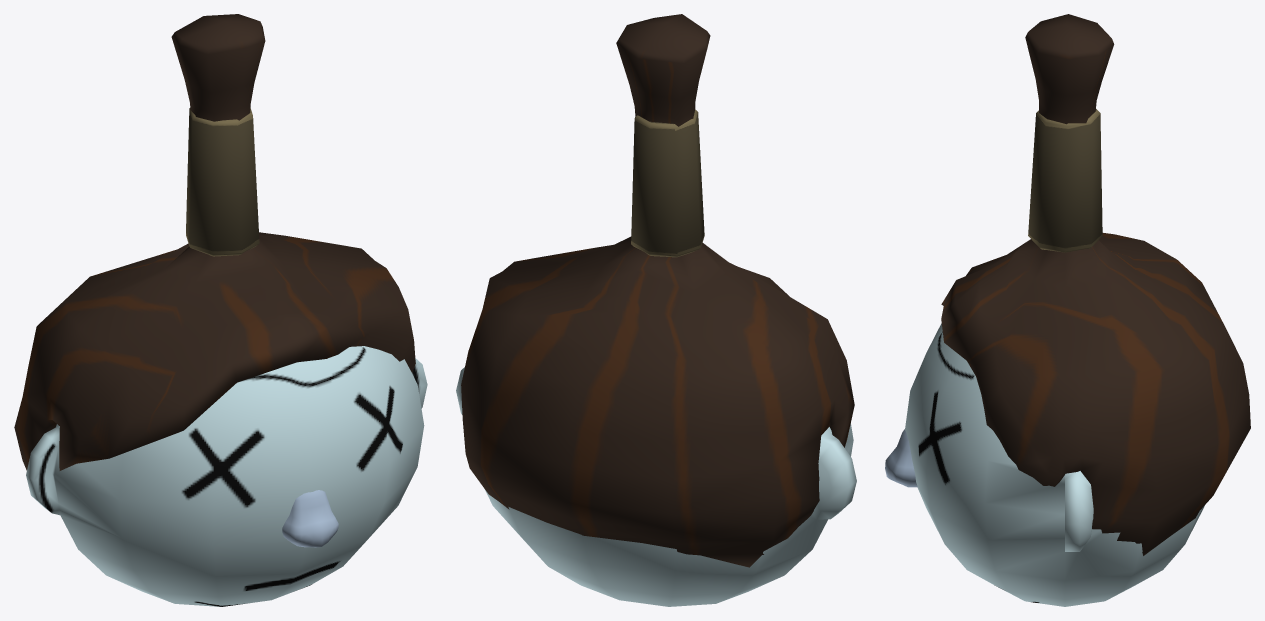
Rendered from ShrunkenHeadUV.fbx.
3 renders of one model, left to right at view 1: azimuth 30°, elevation 25°; view 2: azimuth 150°, elevation 25°; view 3: azimuth 270°, elevation 25°, orthographic. The views are drawn at different scales.
Parts seen in each view (by area): view 1: ShrunkenHead:polySurface262; view 2: ShrunkenHead:polySurface262; view 3: ShrunkenHead:polySurface262.
Boxes of the visible parts, x1=… form: ShrunkenHead:polySurface262: x1=14, y1=14, x2=427, y2=606; ShrunkenHead:polySurface262: x1=456, y1=14, x2=856, y2=606; ShrunkenHead:polySurface262: x1=885, y1=14, x2=1250, y2=606.
Bounding box in the file's own units: 92.68 × 128 × 76.31.
